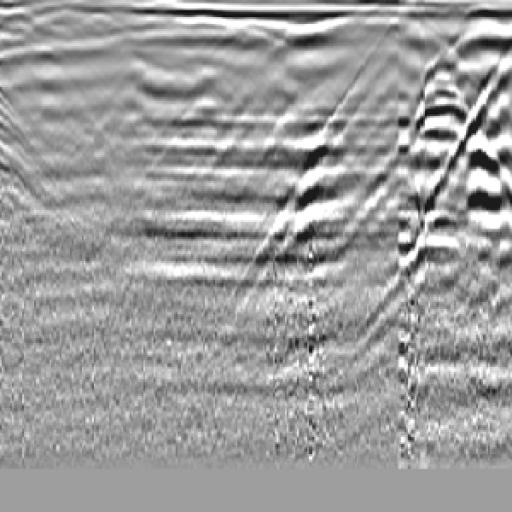metalic: (411, 15, 512, 281)
non-metallic: (221, 14, 512, 340), (351, 52, 509, 289)
